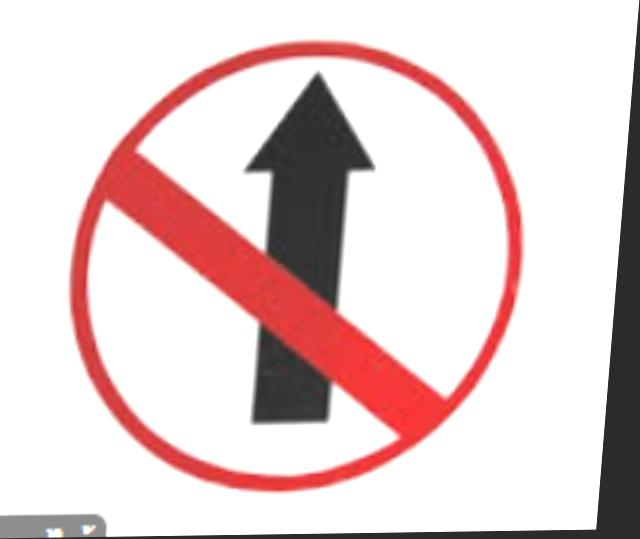not_go_straight: (65, 22, 542, 483)
